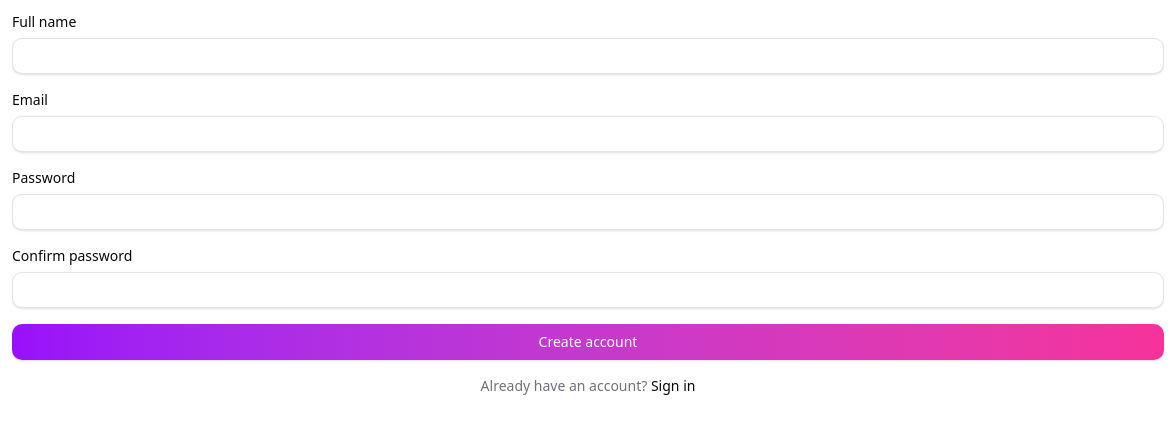
Test: RegisterForm › shows the backend error message when registration fails
This screenshot has width=1176, height=448.
In the field labelled "Full name": (588, 56) [12,38,1164,74], type "Jane Doe"
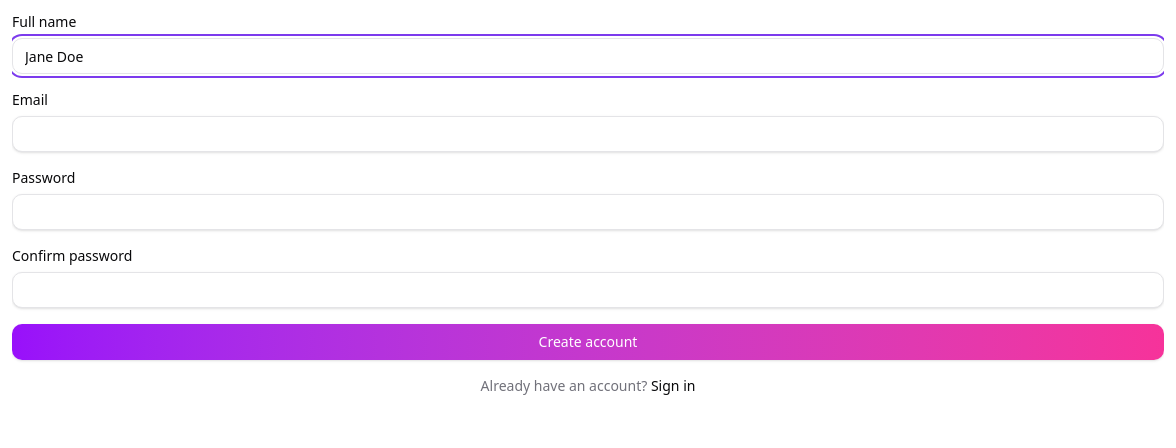
In the field labelled "Email": (588, 134) [12,116,1164,152], type "jane@example.com"
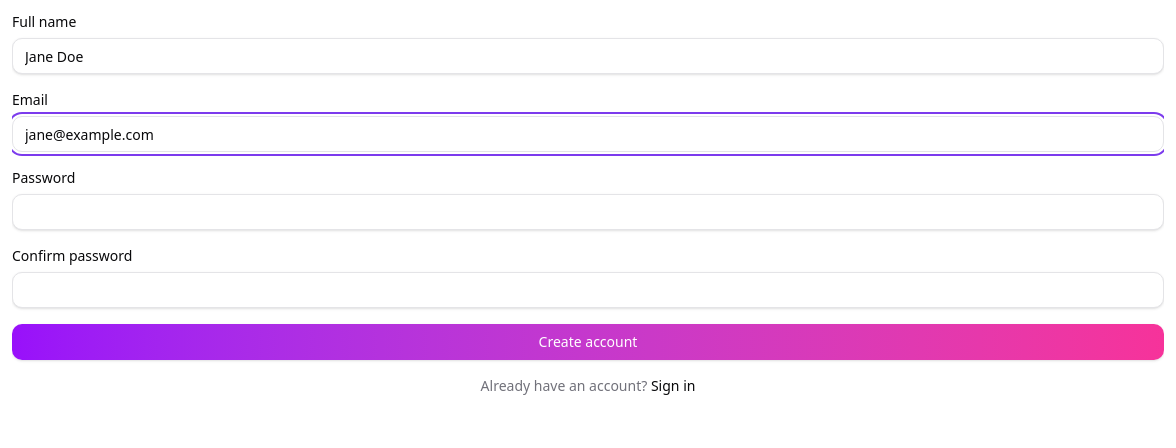
In the password field labelled "Password": (588, 212) [12,194,1164,230], type "password123"
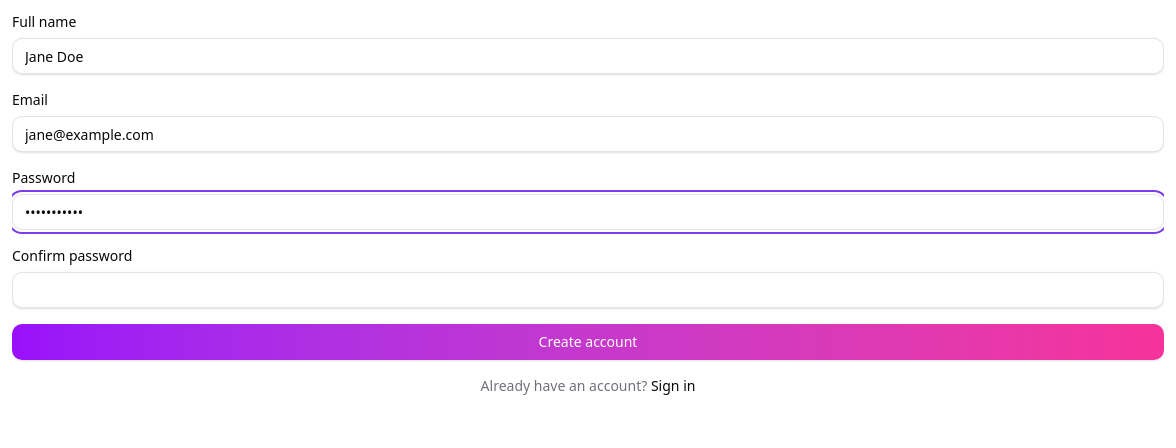
In the password field labelled "Confirm password": (588, 290) [12,272,1164,308], type "password123"
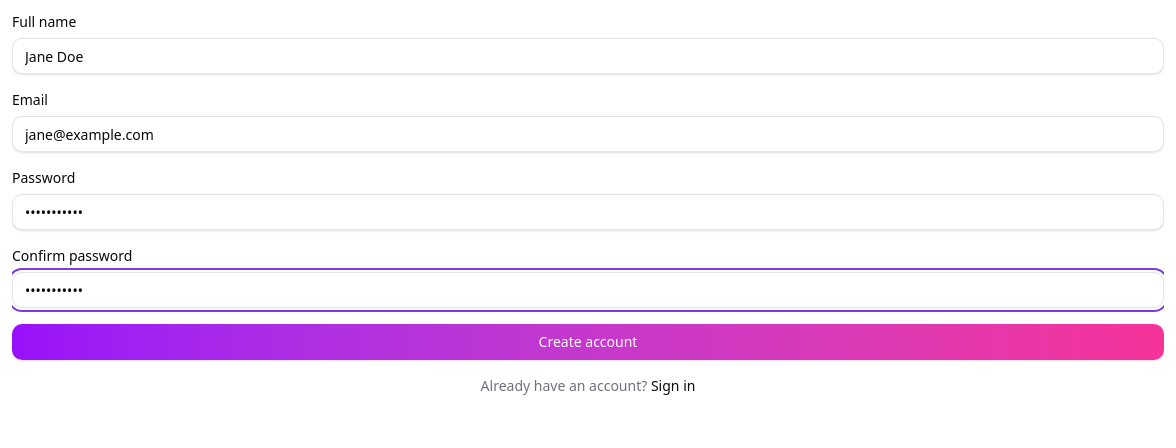
Click the button "Create account": (588, 342) [12,324,1164,360]
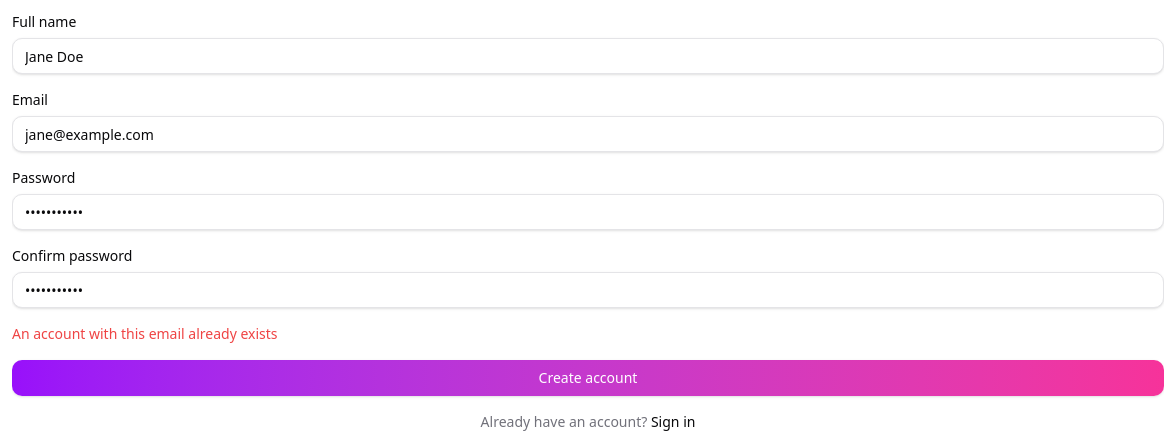
Expected: the text "An account with this email already exists" is shown, [12,324,278,343]
